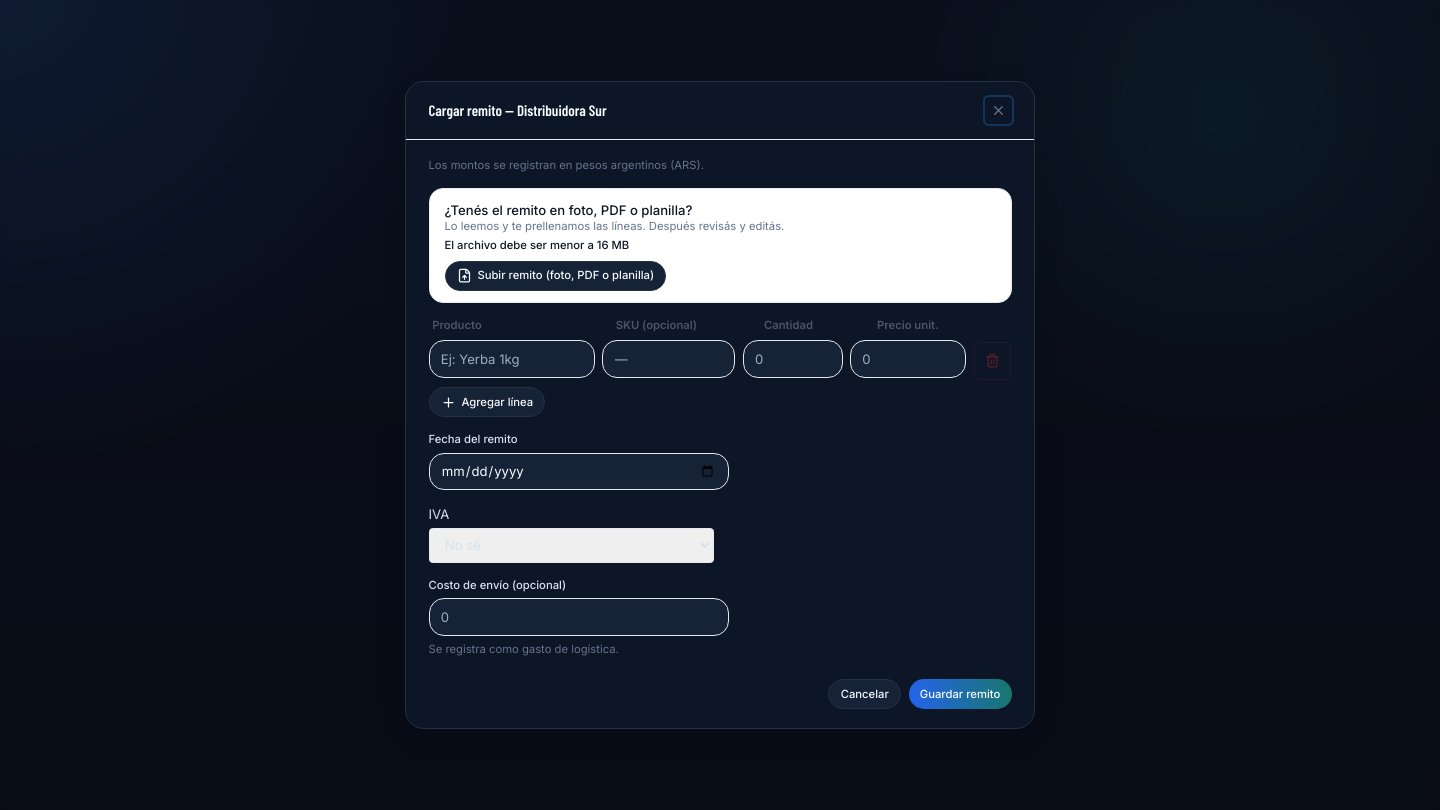
Test: un precio en 0 no se manda y dice por qué
Type "Yerba" into the field with placeholder "Ej: Yerba 1kg". click: (512,359)
box: [428,340,595,378]
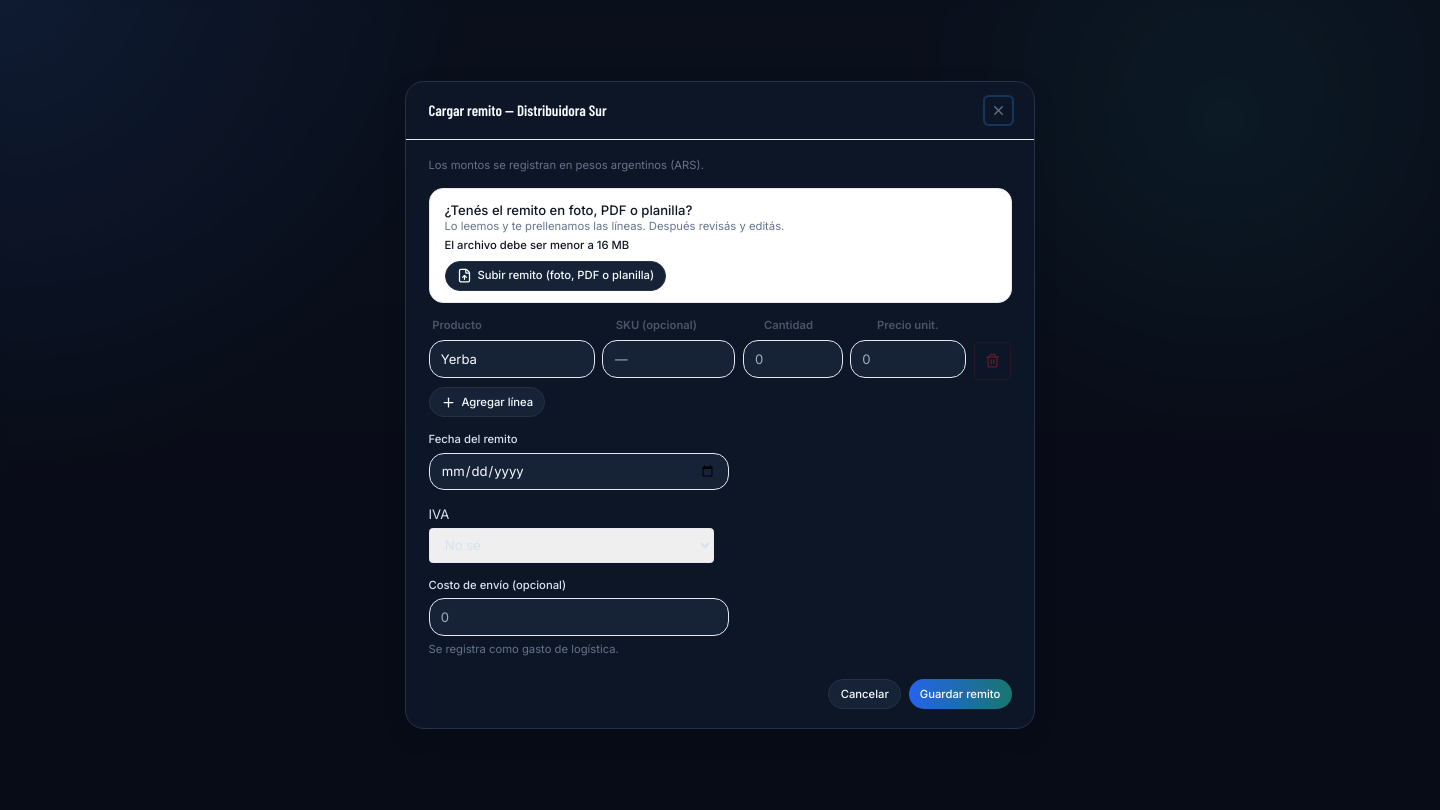
Type "10" into the 1st number field with placeholder "0". click: (793,359)
box: [743,340,843,378]
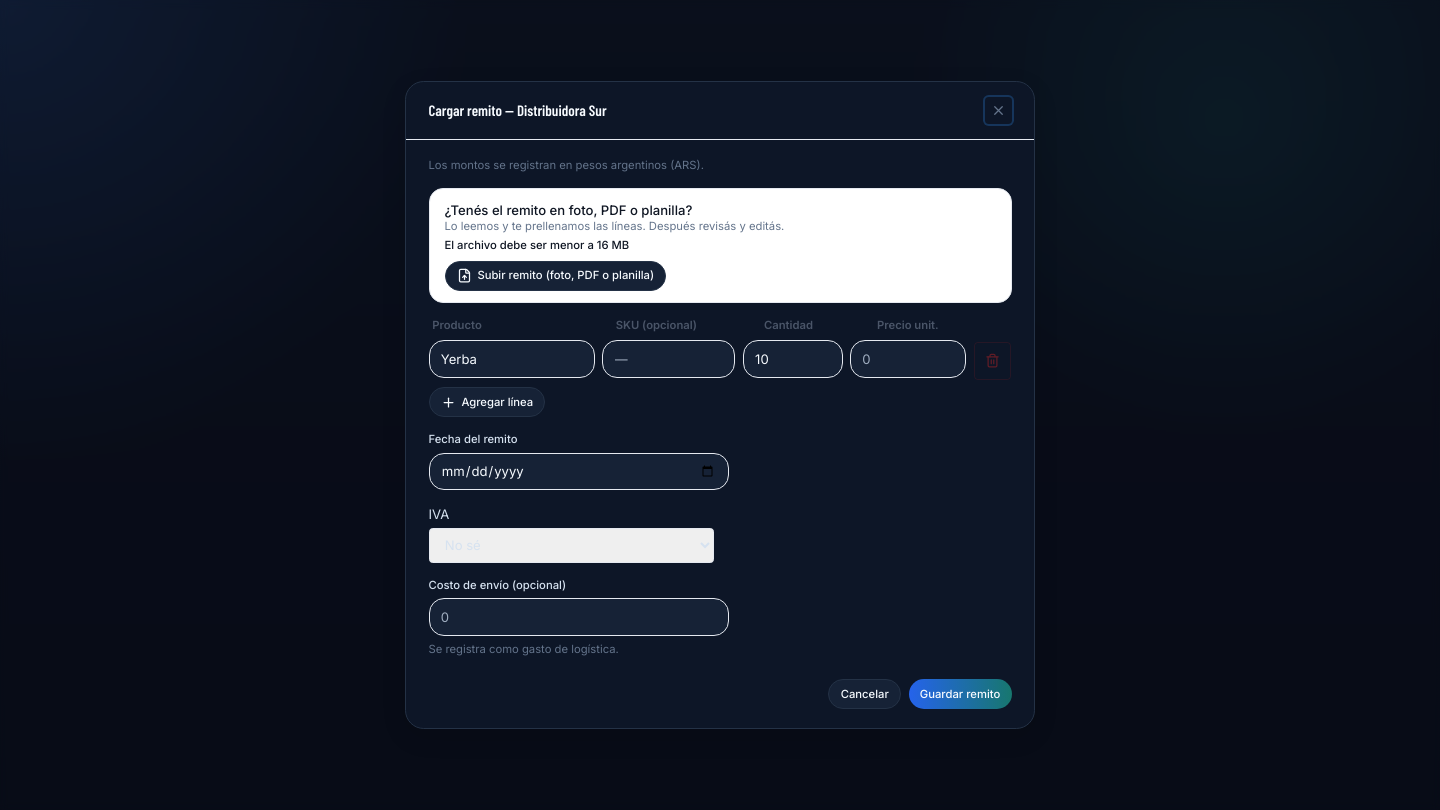
Type "800" into the number field with placeholder "0". click: (908,359)
box: [850,340,966,378]
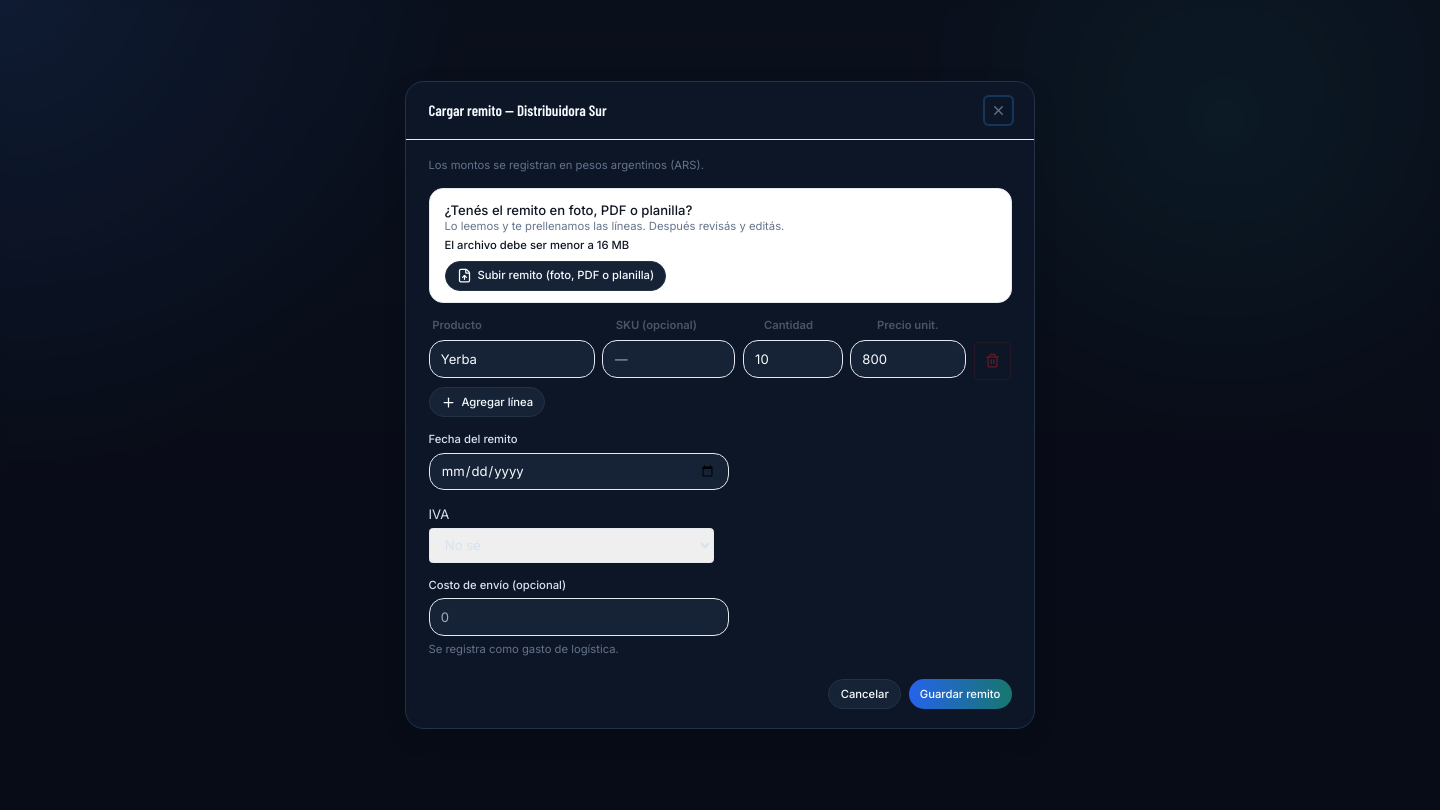
Type "2026-09-15" into the date field labelled "Fecha del remito". click: (578,472)
box: [428,453,728,490]
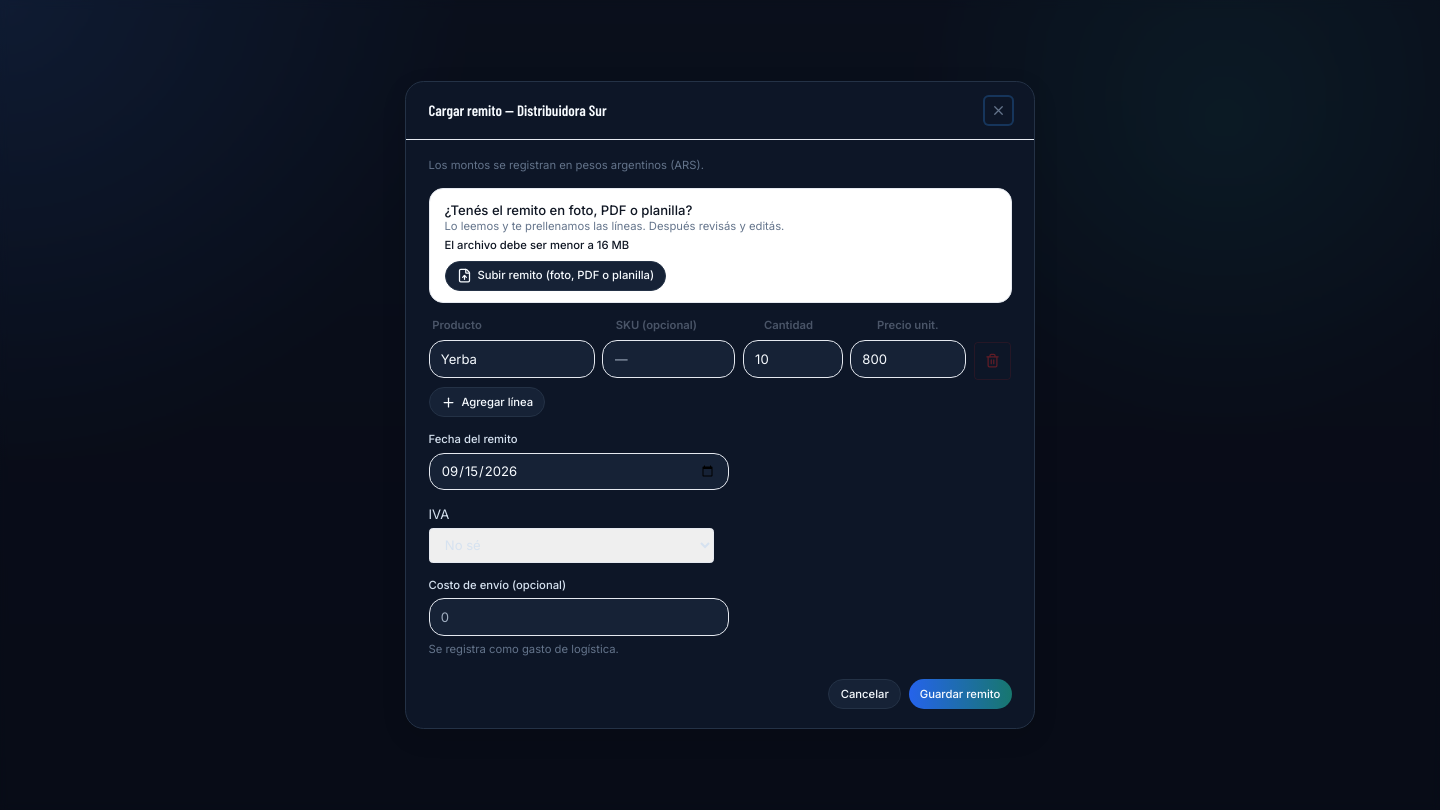
Replace the text in the 2nd number field with placeholder "0" with "0". click: (908,359)
box: [850,340,966,378]
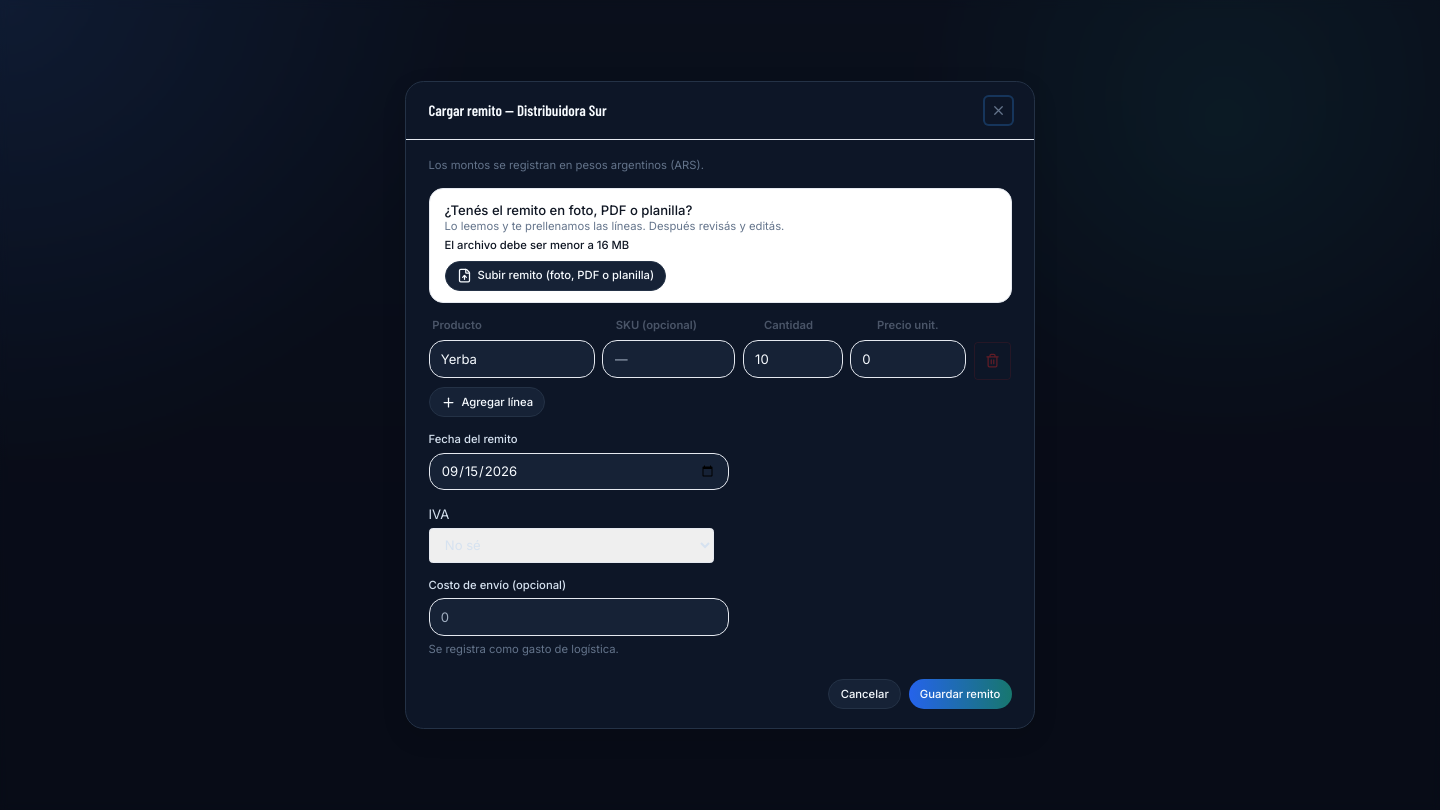
Click the button "Guardar remito". click: (960,694)
box: [908,679,1012,709]
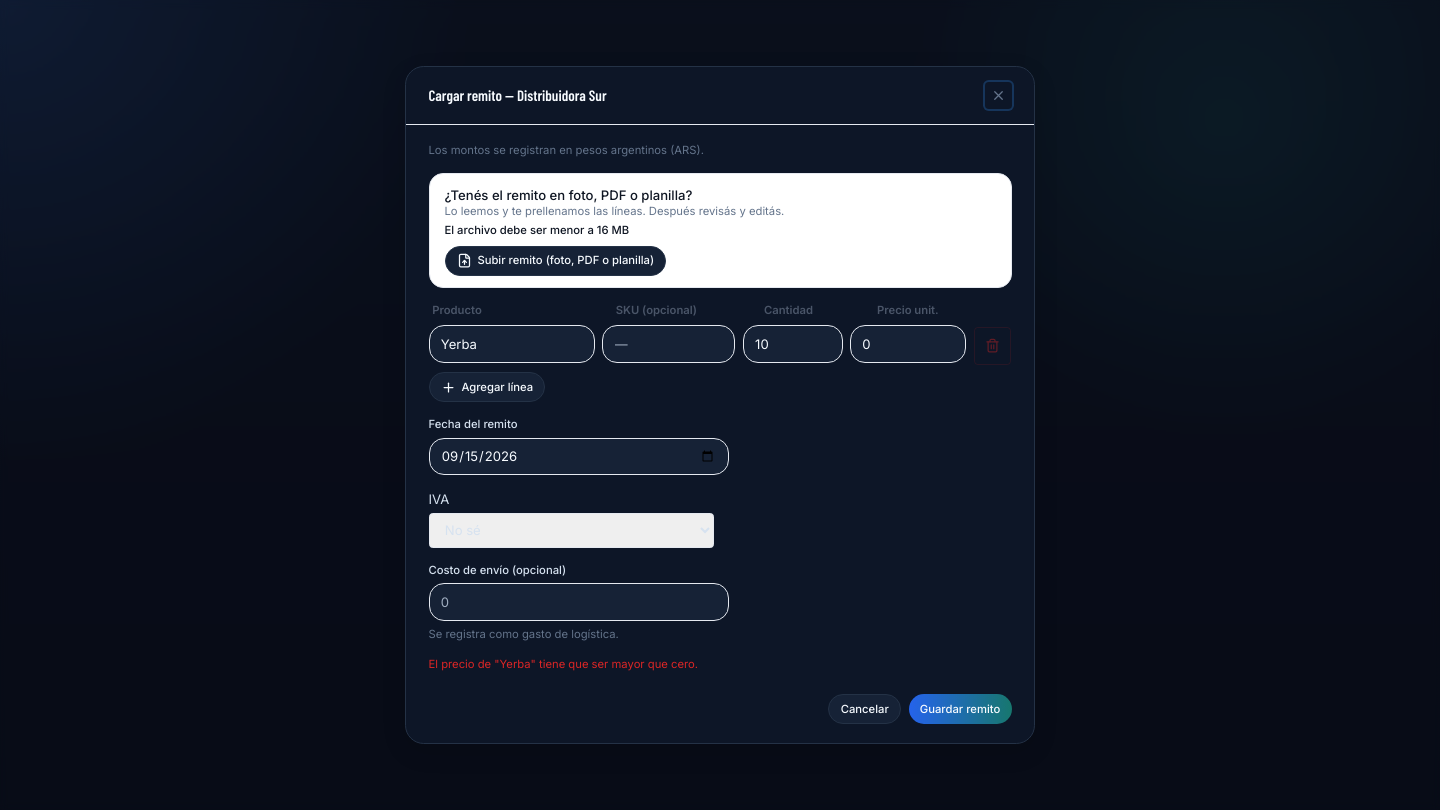
expect the text "El precio de \"Yerba\" tiene que ser mayor que cero." is shown: met, box [428,656,698,670]
